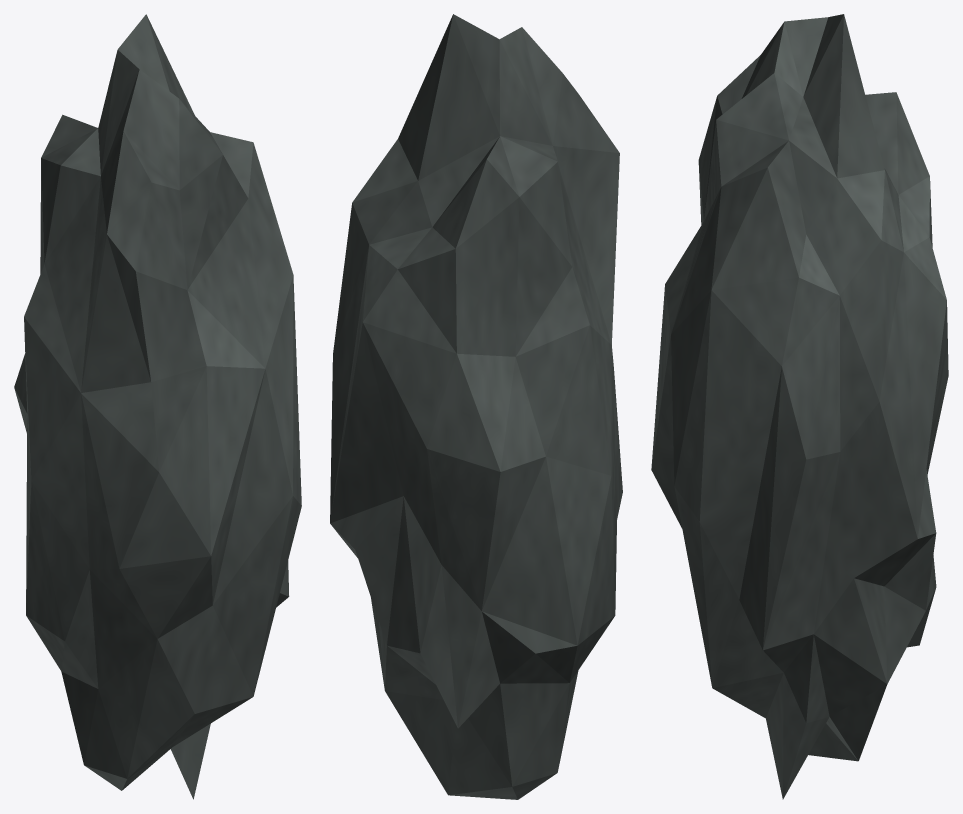
Rendered from rocks.sea_stack.lod1.glb.
3 views of the same model, side by side, from view 1: azimuth 30°, elevation 25°; view 2: azimuth 150°, elevation 25°; view 3: azimuth 270°, elevation 25° (orthographic). The views are drawn at different scales.
Parts seen in each view (by area): view 1: Stack; view 2: Stack; view 3: Stack.
Boxes of the visible parts, box(x1,y1,x2,y2) form: Stack: box(14, 14, 301, 799); Stack: box(330, 14, 622, 799); Stack: box(651, 14, 948, 799).
Size of the model in its own units: 5.14 by 15.14 by 5.25.
Materials: 1 (1 with a texture image).
